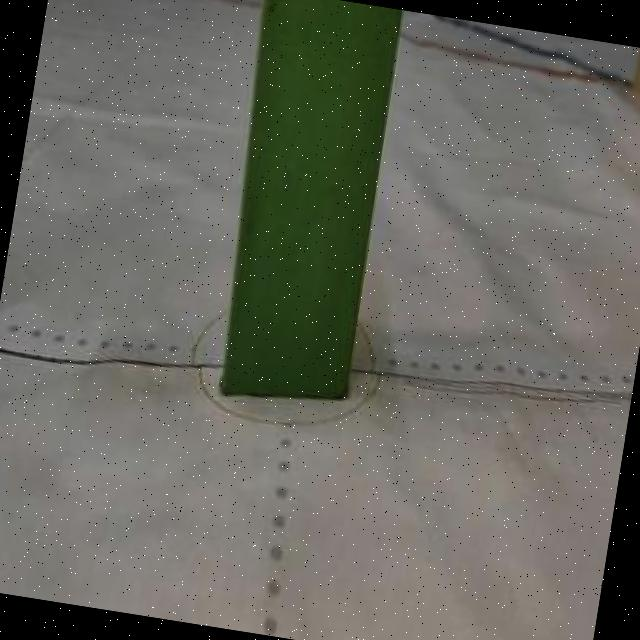greenbox: (189, 0, 420, 419)
